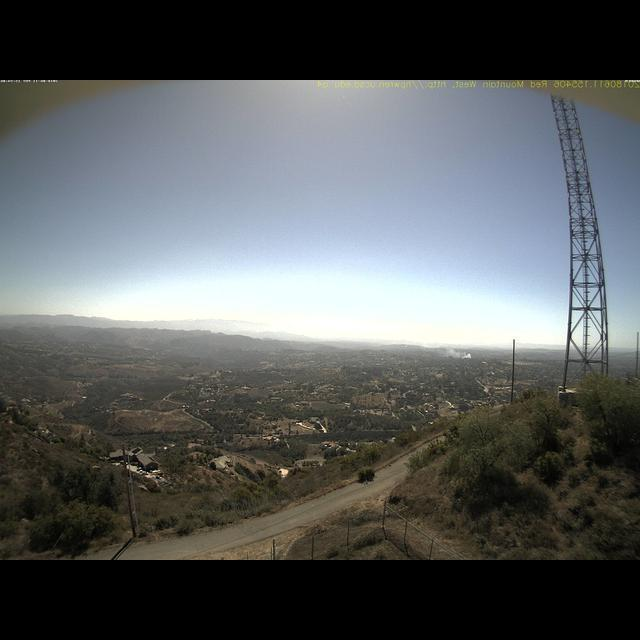Smoke: (414, 338, 476, 359)
